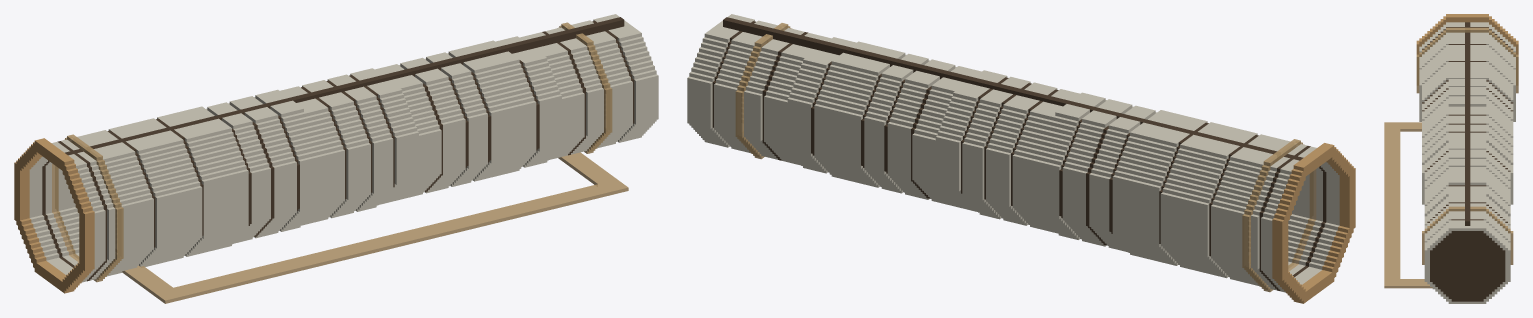
File: quiver_large_birchbark.glb
The picture shows the model from 3 angles, left to right: view 1: azimuth 30°, elevation 25°; view 2: azimuth 150°, elevation 25°; view 3: azimuth 270°, elevation 25°; orthographic projection. The views are drawn at different scales.
Visible parts, largest first — view 1: quiver_large_birchbark:compound; view 2: quiver_large_birchbark:compound; view 3: quiver_large_birchbark:compound.
Part boxes in pixels (left/top/right/bottom): quiver_large_birchbark:compound: left=14, top=14, right=658, bottom=303; quiver_large_birchbark:compound: left=687, top=14, right=1355, bottom=303; quiver_large_birchbark:compound: left=1384, top=14, right=1518, bottom=303.
Size of the model in its own units: 0.72 by 0.156 by 0.2.
